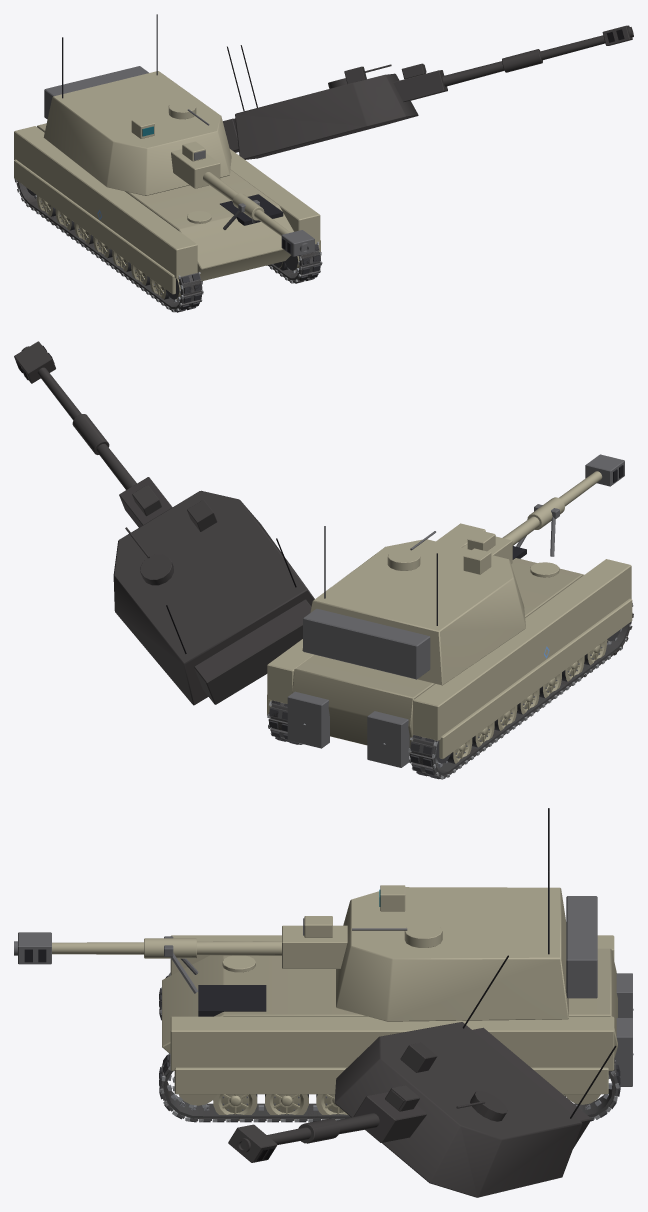
Rendered from artillery__m109a7_paladin.glb.
3 renders of one model, top to bottom at view 1: azimuth 30°, elevation 25°; view 2: azimuth 150°, elevation 25°; view 3: azimuth 270°, elevation 25°, orthographic. The views are drawn at different scales.
Visible parts, largest first — view 1: Hull_Mesh, Turret_Mesh, Wreck, Gun_Mesh, Track_L_Mesh, Track_R_Mesh; view 2: Wreck, Hull_Mesh, Turret_Mesh, Gun_Mesh, Track_L_Mesh, Track_R_Mesh; view 3: Hull_Mesh, Wreck, Turret_Mesh, Gun_Mesh, Track_R_Mesh, Wheel_R6_Mesh, Wheel_R5_Mesh.
Part boxes in pixels (x1=…): Hull_Mesh: x1=14, y1=123, x2=320, y2=294; Turret_Mesh: x1=43, y1=14, x2=231, y2=195; Wreck: x1=15, y1=25, x2=633, y2=311; Gun_Mesh: x1=171, y1=141, x2=314, y2=256; Track_L_Mesh: x1=14, y1=179, x2=203, y2=312; Track_R_Mesh: x1=266, y1=241, x2=322, y2=283; Wreck: x1=14, y1=341, x2=633, y2=779; Hull_Mesh: x1=267, y1=504, x2=632, y2=767; Turret_Mesh: x1=302, y1=526, x2=525, y2=685; Gun_Mesh: x1=462, y1=454, x2=624, y2=564; Track_L_Mesh: x1=408, y1=603, x2=633, y2=779; Track_R_Mesh: x1=267, y1=700, x2=302, y2=744; Hull_Mesh: x1=162, y1=935, x2=633, y2=1094; Wreck: x1=159, y1=955, x2=616, y2=1197; Turret_Mesh: x1=336, y1=808, x2=597, y2=1021; Gun_Mesh: x1=14, y1=916, x2=347, y2=968; Track_R_Mesh: x1=159, y1=1053, x2=620, y2=1122; Wheel_R6_Mesh: x1=213, y1=1094, x2=257, y2=1121; Wheel_R5_Mesh: x1=265, y1=1094, x2=308, y2=1120.
Size of what is drawn, in the model's own units: 11.37 by 3.87 by 9.16.
